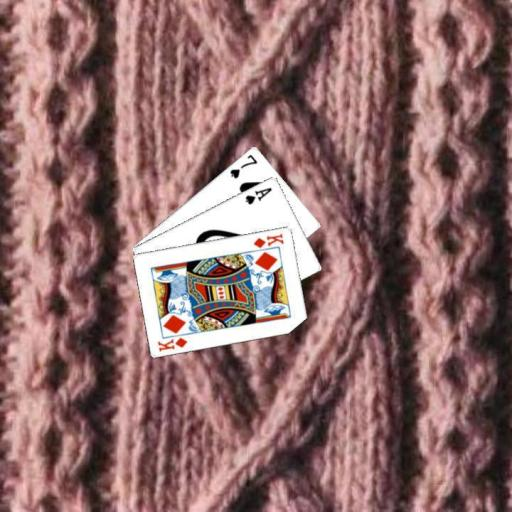card-corner: (227, 151, 259, 180), (250, 230, 285, 250), (242, 184, 273, 206), (155, 334, 189, 353)
